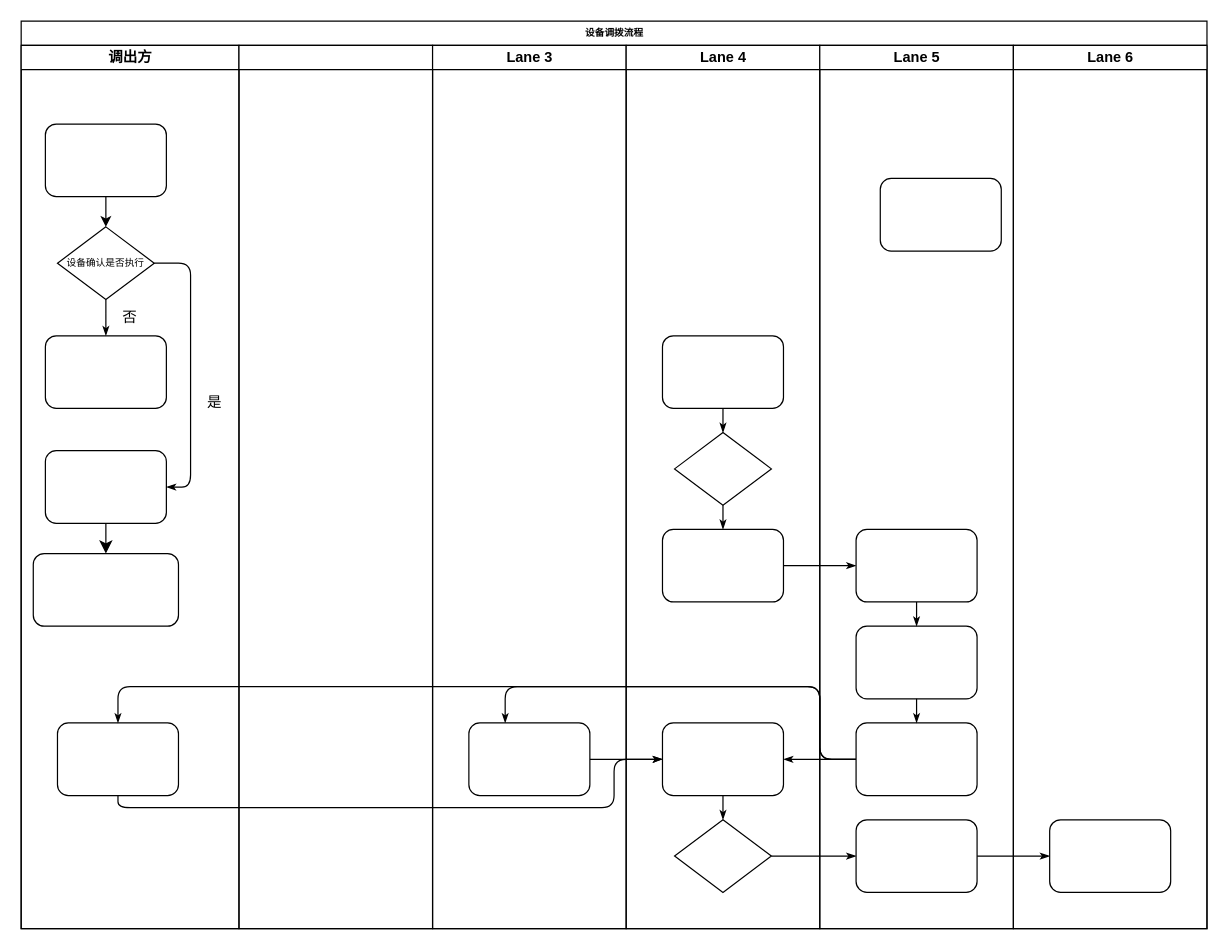
Some shapes in this 1228 by 950 pixel diagram are drawn without their labels. The shapes that lost their labels are listed below. From the top down, each one's centre as x and y in pixels, then its label:
At (x=105, y=160): "设备调拨需求".
At (x=105, y=371): "发起工程变更".
At (x=105, y=486): "发起质量变更".
At (x=335, y=486): "调入方".
